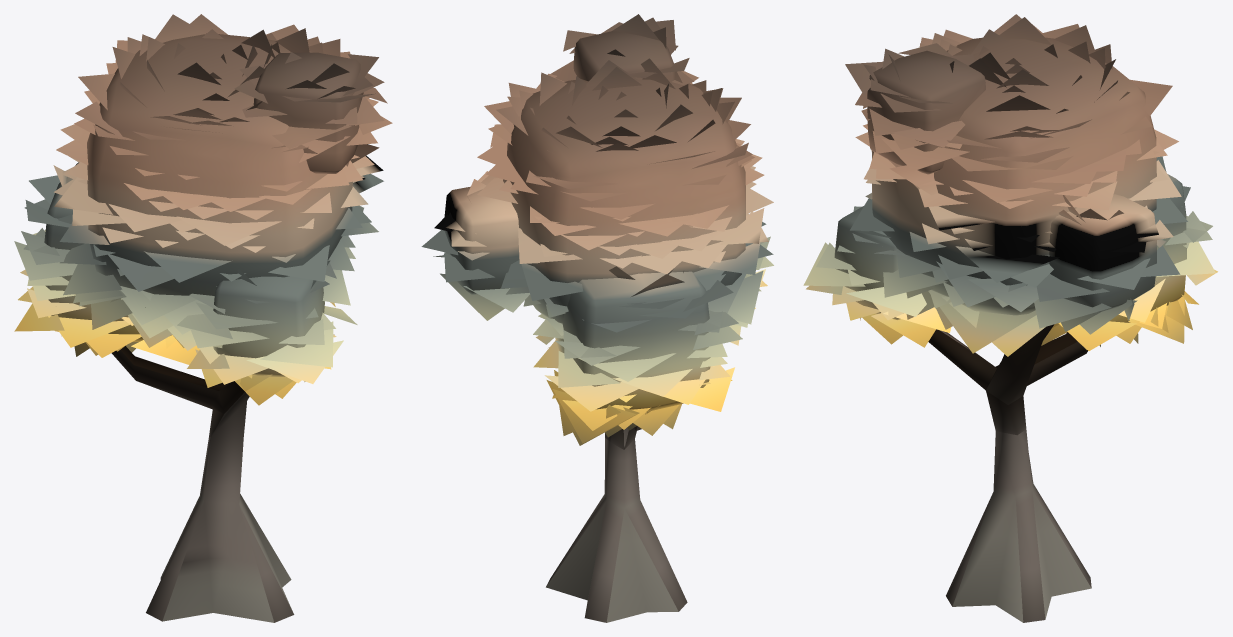
The model's file is Tree_5A.fbx.
3 renders of one model, left to right at view 1: azimuth 30°, elevation 25°; view 2: azimuth 150°, elevation 25°; view 3: azimuth 270°, elevation 25°, orthographic. The views are drawn at different scales.
Visible parts, largest first — view 1: Tree_5A; view 2: Tree_5A; view 3: Tree_5A.
Part boxes in pixels (<box>): Tree_5A: <box>14,14,392,622</box>; Tree_5A: <box>421,14,773,622</box>; Tree_5A: <box>803,14,1217,622</box>.
Size of the model in its own units: 5.16 by 8.83 by 5.97.
